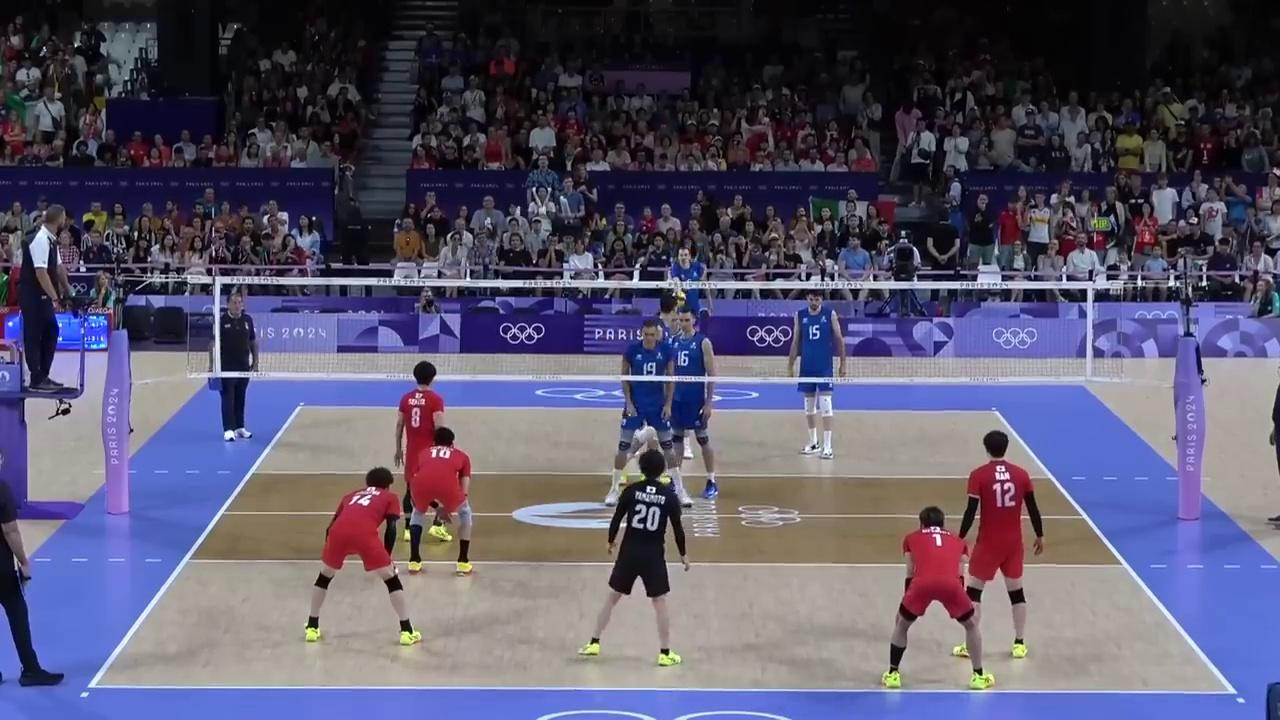ball: (675, 290, 687, 306)
